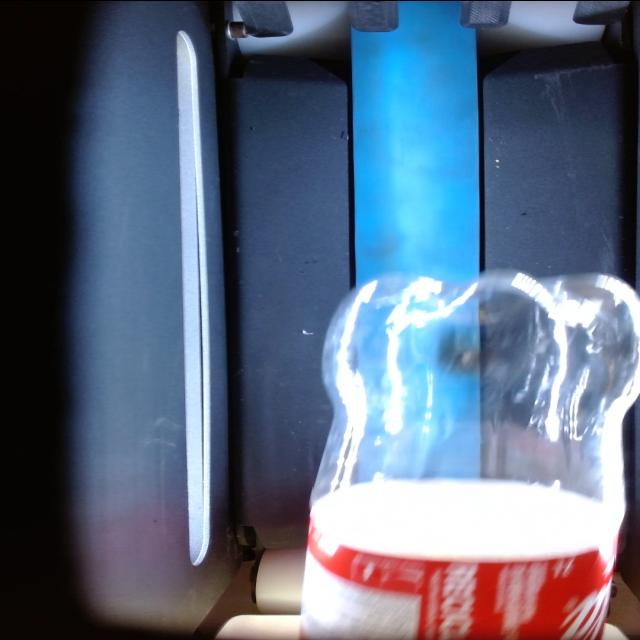bottom: (313, 270, 638, 499)
label: (302, 479, 615, 640)
